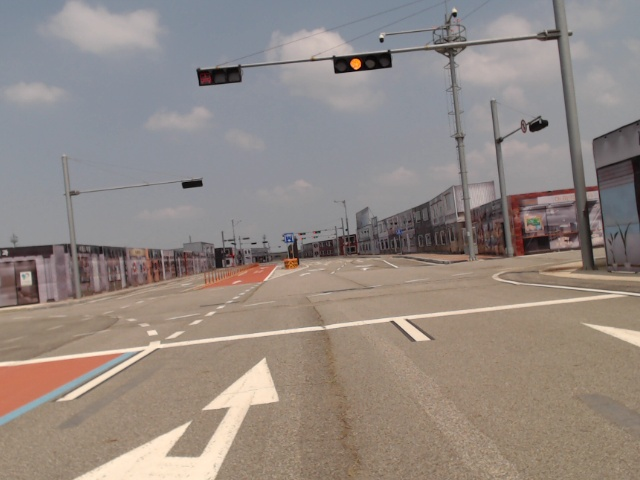orange_4: (334, 52, 391, 72)
